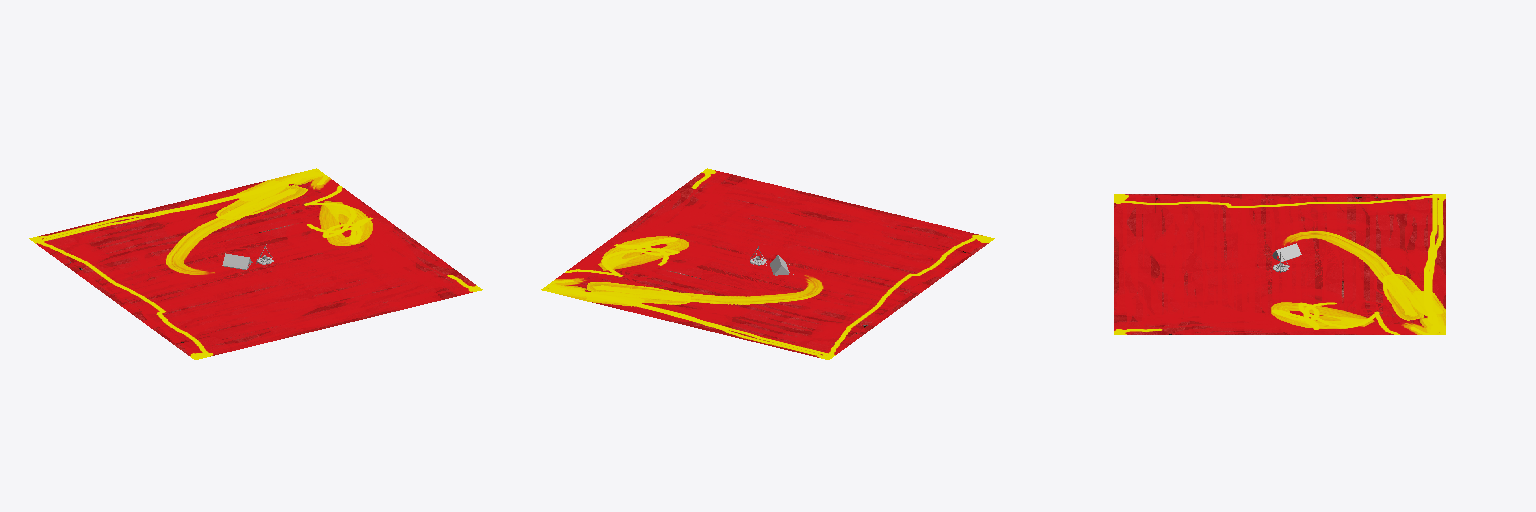
The picture shows the model from 3 angles: view 1: azimuth 30°, elevation 25°; view 2: azimuth 150°, elevation 25°; view 3: azimuth 270°, elevation 25°; orthographic projection.
Parts seen in each view (by area): view 1: Campfire_OBJ; view 2: Campfire_OBJ; view 3: Campfire_OBJ.
Part boxes in pixels (bbox=[...]): Campfire_OBJ: bbox=[29, 168, 482, 359]; Campfire_OBJ: bbox=[541, 168, 994, 359]; Campfire_OBJ: bbox=[1114, 194, 1445, 334].
Bounding box in the file's own units: 402 × 23.37 × 402.
5 materials, 1 textured.